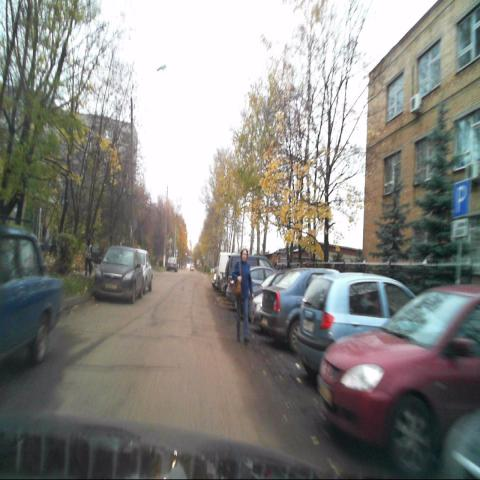6_4: (452, 177, 471, 218)
